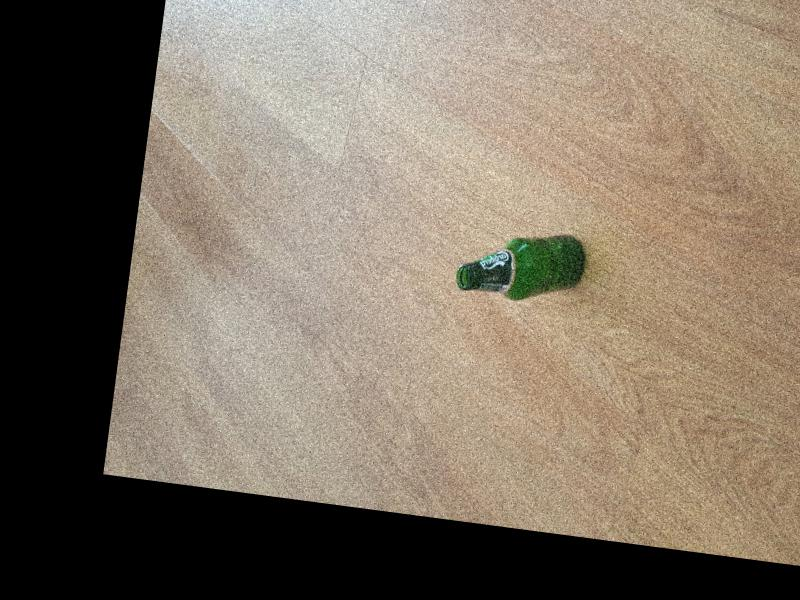Beer: (452, 219, 589, 309)
